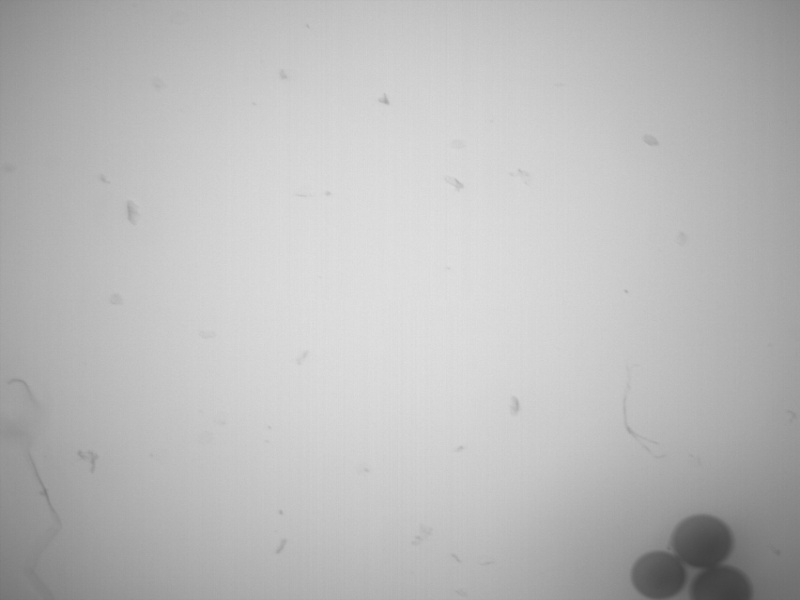fiber: (22, 444, 70, 599), (616, 354, 666, 461), (670, 513, 735, 567), (630, 550, 690, 599), (688, 564, 756, 600), (6, 376, 42, 409)
